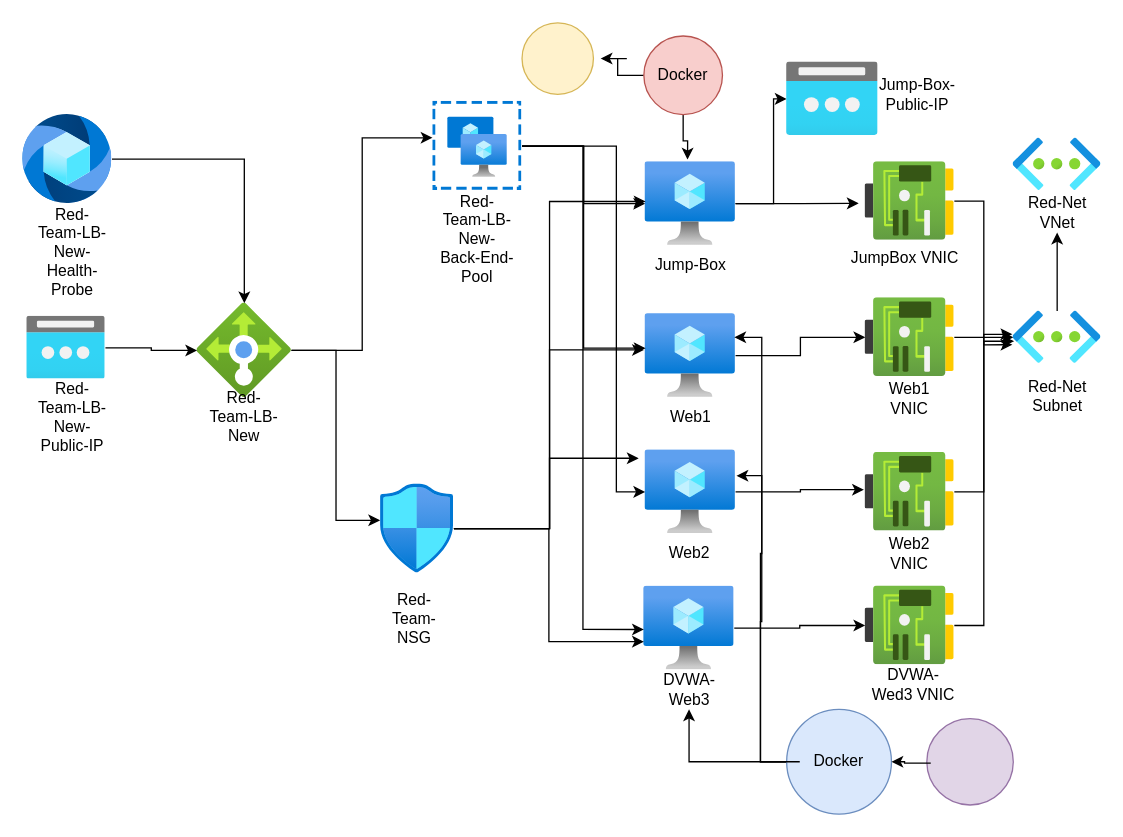
Some shapes in this 1123 by 837 pixel diagram are drawn without their labels. Each missing label, with the centre of its shape:
"Ansible" belongs at (557,58).
"DVWA" belongs at (969,761).
